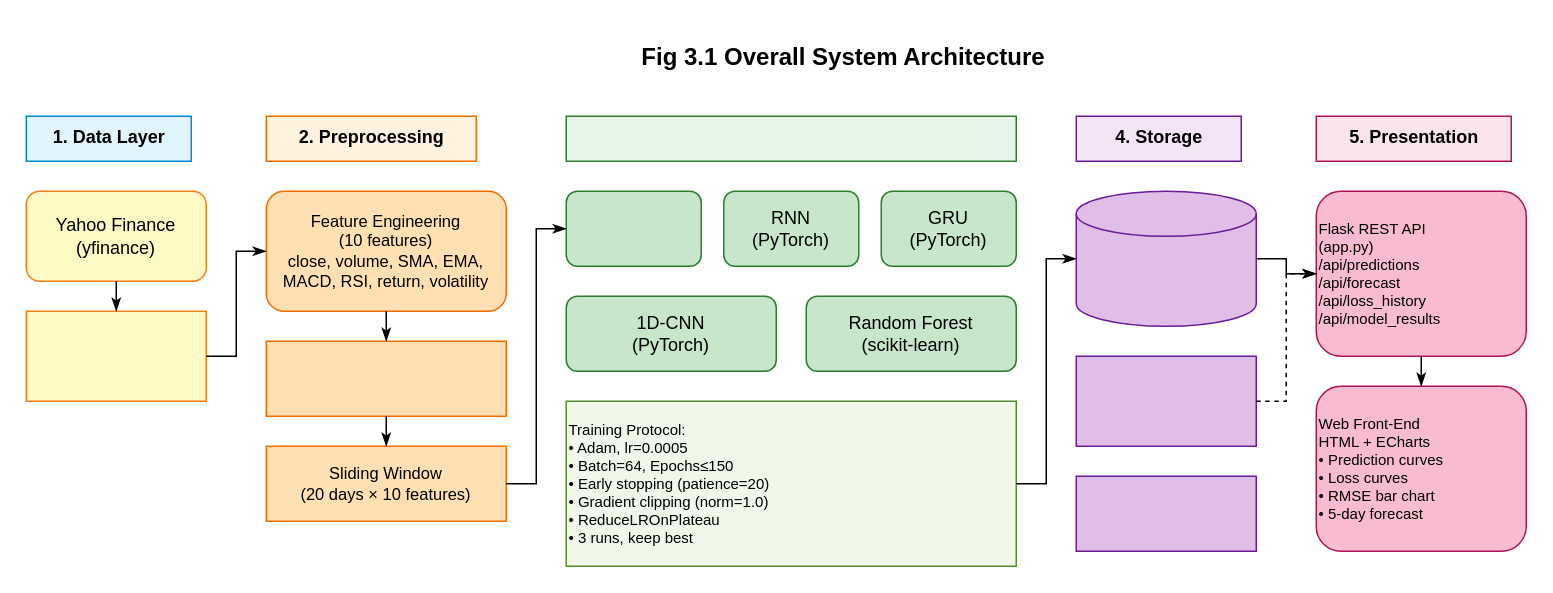
Image size: 1553x593. Some labels were removed from this diagram. The shapes that lost their labels are listed below. From the top down, each one's box as (x1, y1, x2, y2) in pixels, then its label:
(565, 115, 1016, 161): 3. Model Training
(565, 190, 701, 266): LSTM (PyTorch)
(1075, 190, 1256, 326): MySQL • model_predictions • model_forecasts
(25, 310, 206, 401): 10 Stocks × 5 Years Daily OHLCV
(265, 340, 506, 416): Min-Max Normalization → [0, 1]
(1075, 355, 1256, 446): JSON Files • model_results.json • loss_history.json
(1075, 475, 1256, 551): Model Files .pth / .pkl
